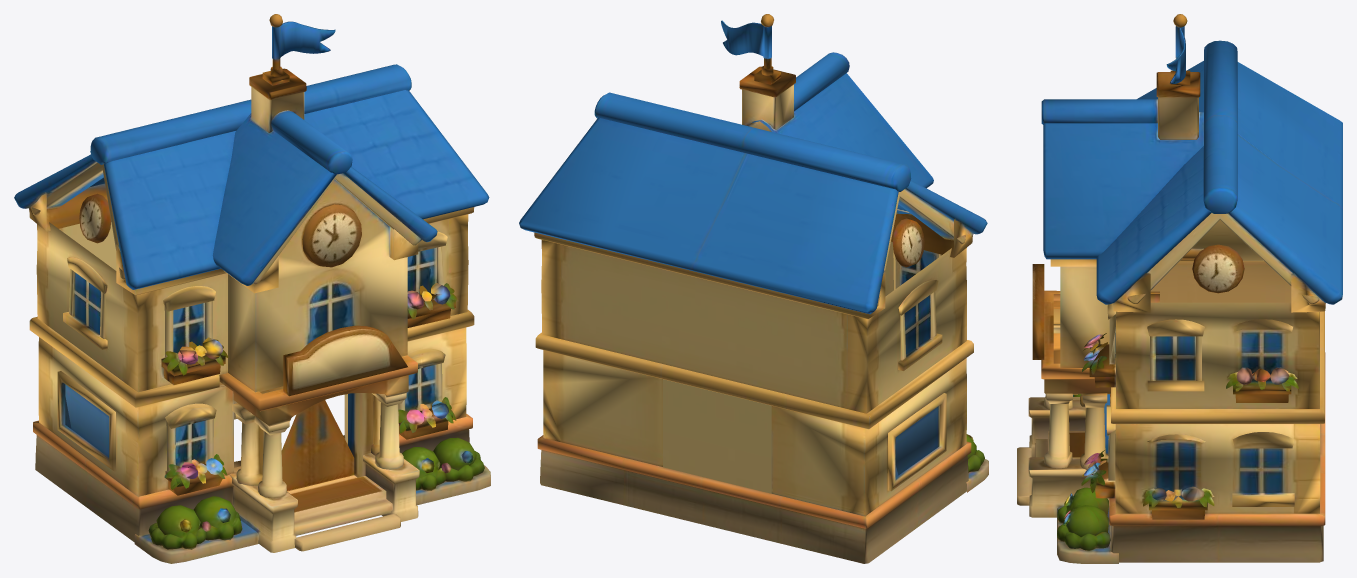
The picture shows the model from 3 angles, left to right: view 1: azimuth 30°, elevation 25°; view 2: azimuth 150°, elevation 25°; view 3: azimuth 270°, elevation 25°; orthographic projection. The views are drawn at different scales.
Parts seen in each view (by area): view 1: shop-community; view 2: shop-community; view 3: shop-community.
Boxes of the visible parts, left/top/right/bottom form: shop-community: left=14, top=14, right=490, bottom=563; shop-community: left=519, top=14, right=988, bottom=563; shop-community: left=1017, top=14, right=1342, bottom=563.
Size of the model in its own units: 8 by 9.97 by 6.27.
1 material, 1 textured.
